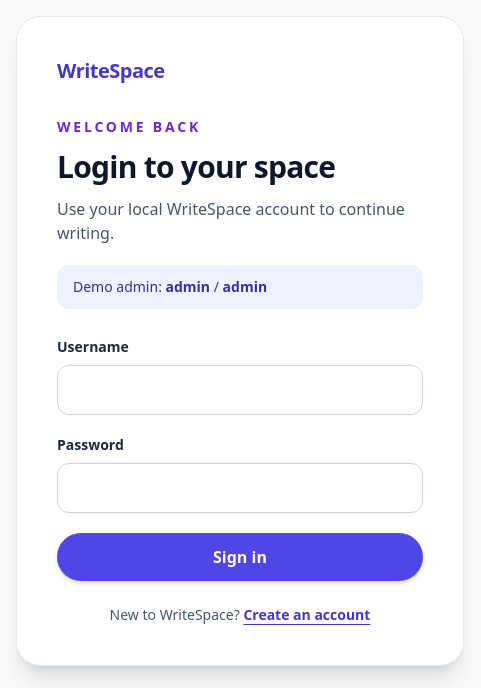
Test: LoginPage › shows the exact invalid-credentials message without creating a session
The width and height of the screenshot is (481, 688).
Type "wrong" into the field labelled "Username" at coordinates (240, 390), box [57,365,423,415]
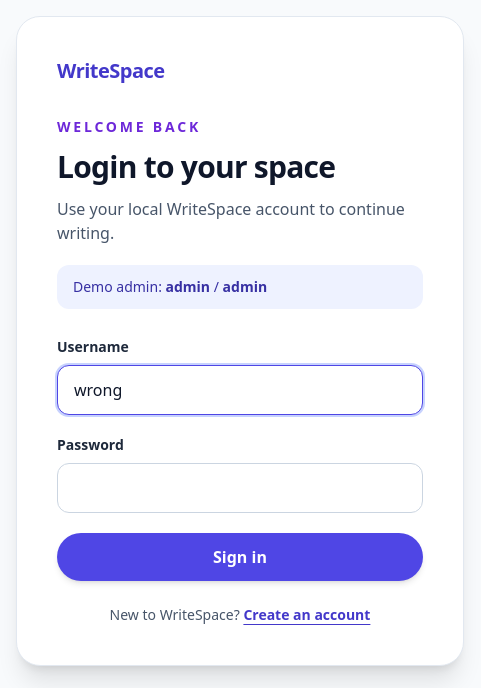
Type "credentials" into the password field labelled "Password" at coordinates (240, 488), box [57,463,423,513]
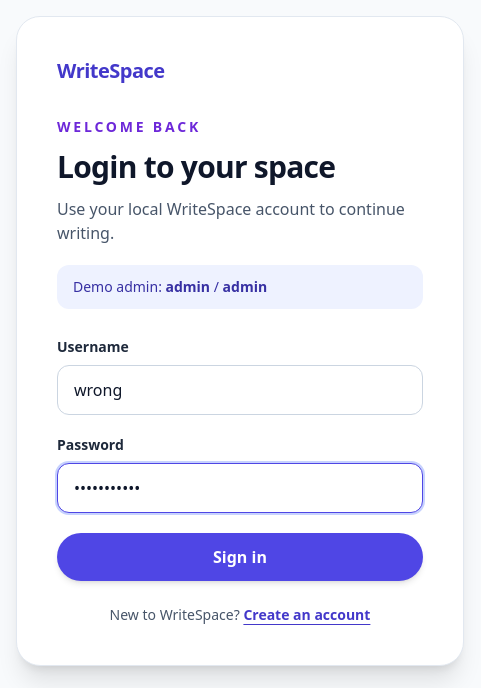
Click the button "Sign in" at coordinates (240, 557), box [57,533,423,581]
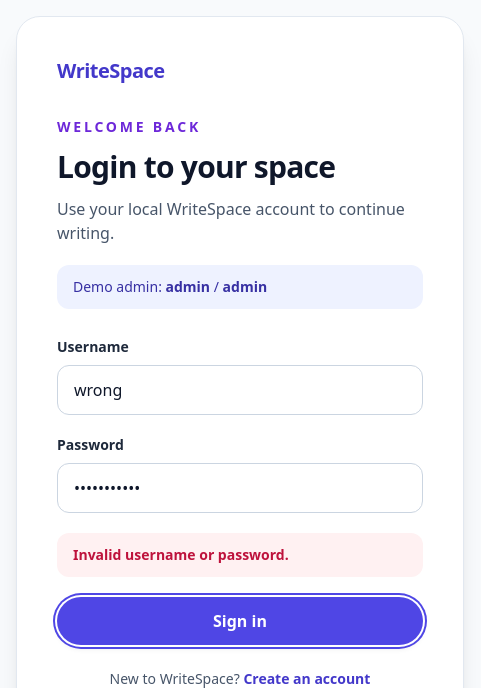
expect the message reads "Invalid username or password.": met, box [73,545,289,564]
